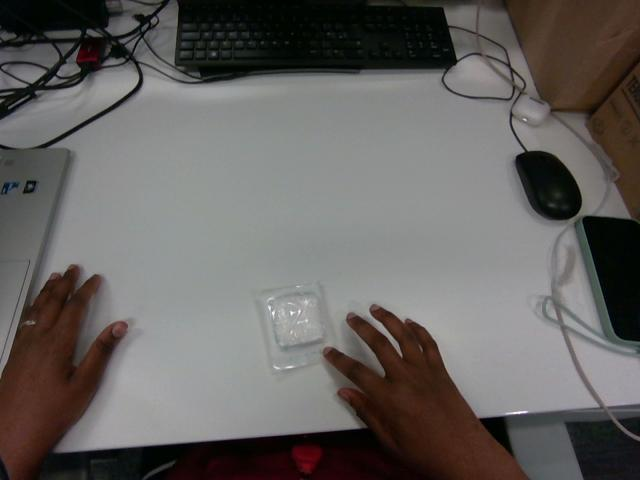gauze: (255, 283, 333, 369)
